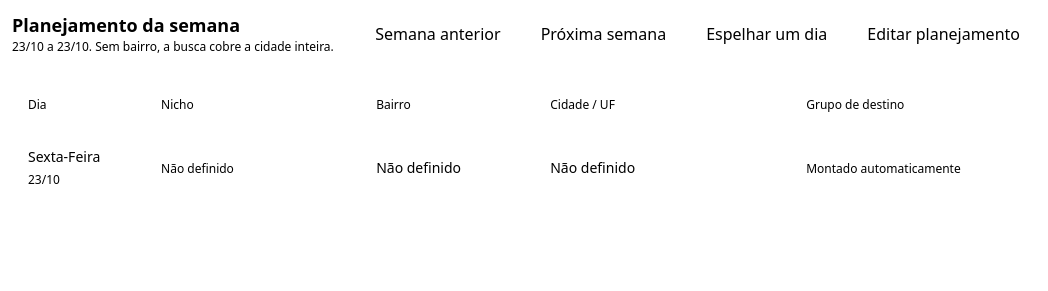
Test: layout segue a prévia com cinco colunas e critérios junto do nicho
Click the button "Editar planejamento". click: x=944, y=34
box: 851,14 -> 1036,54
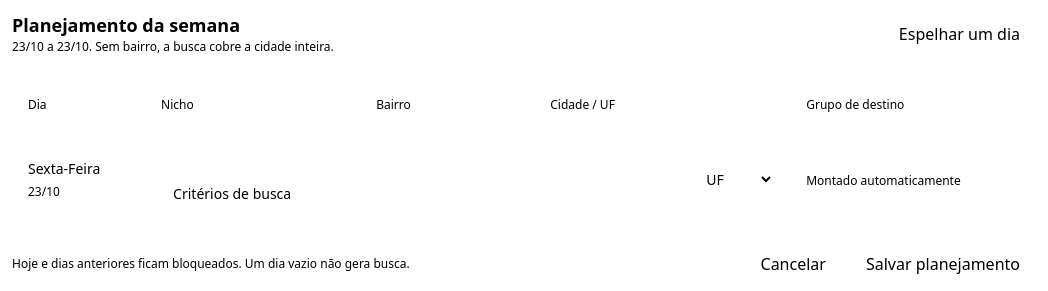
Expected: the cell "Critérios de busca" is shown, 145,130 -> 360,228
